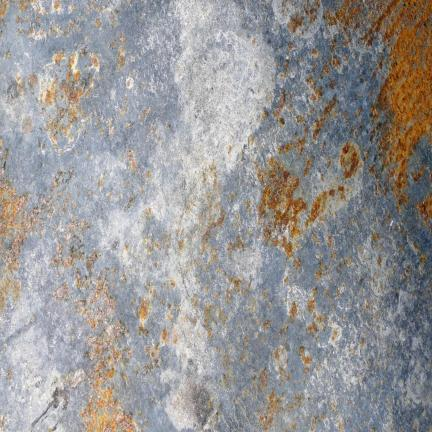karat: (331, 0, 432, 208), (37, 47, 99, 152), (0, 149, 38, 310), (257, 157, 307, 244), (81, 388, 135, 432)
